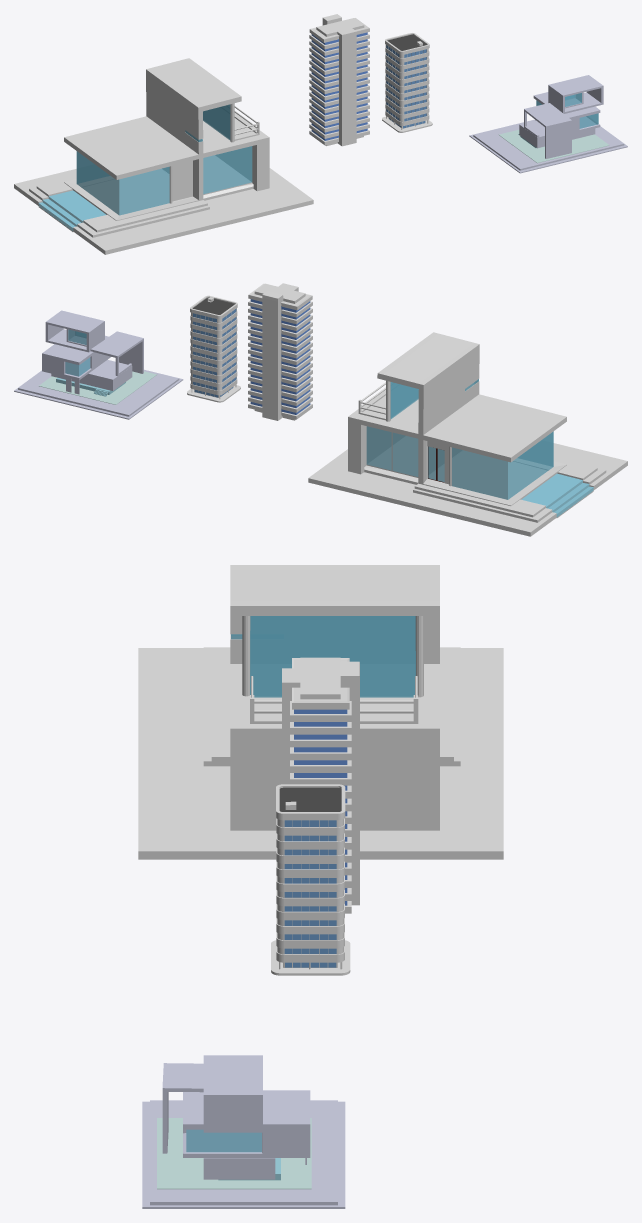
Rendered from City 2.fbx.
3 renders of one model, top to bottom at view 1: azimuth 30°, elevation 25°; view 2: azimuth 150°, elevation 25°; view 3: azimuth 270°, elevation 25°, orthographic. The views are drawn at different scales.
Visible parts, largest first — view 1: Cube.021, Cube.003, Cube.008, Cylinder.011; view 2: Cube.021, Cube.003, Cube.008, Cylinder.011; view 3: Cube.021, Cube.003, Cylinder.011, Cube.008.
Boxes of the visible parts, <box> form: Cube.021: <box>14,58,313,254</box>; Cube.003: <box>469,75,627,173</box>; Cube.008: <box>309,14,369,146</box>; Cylinder.011: <box>382,33,432,132</box>; Cube.021: <box>308,332,627,536</box>; Cube.003: <box>14,310,183,419</box>; Cube.008: <box>248,283,312,420</box>; Cylinder.011: <box>187,295,240,402</box>; Cube.021: <box>138,565,503,859</box>; Cube.003: <box>142,1055,345,1208</box>; Cylinder.011: <box>271,784,350,975</box>; Cube.008: <box>282,657,359,913</box>.
Bounding box in the file's own units: 727 × 205 × 219.
